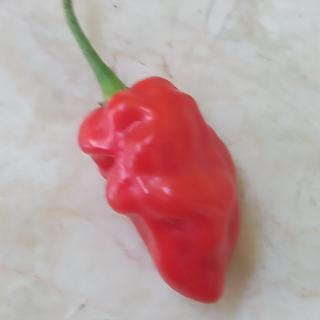Grade-A: (70, 68, 242, 305)
